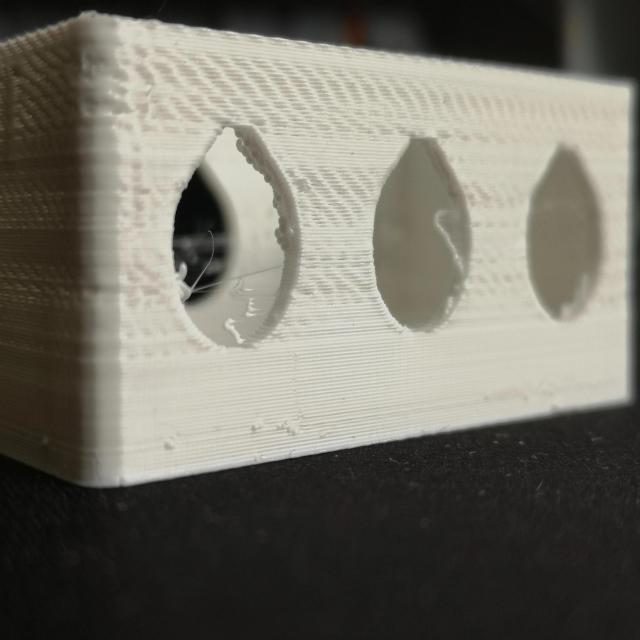spaghetti: (130, 48, 494, 133), (294, 158, 375, 226), (306, 243, 366, 306)
